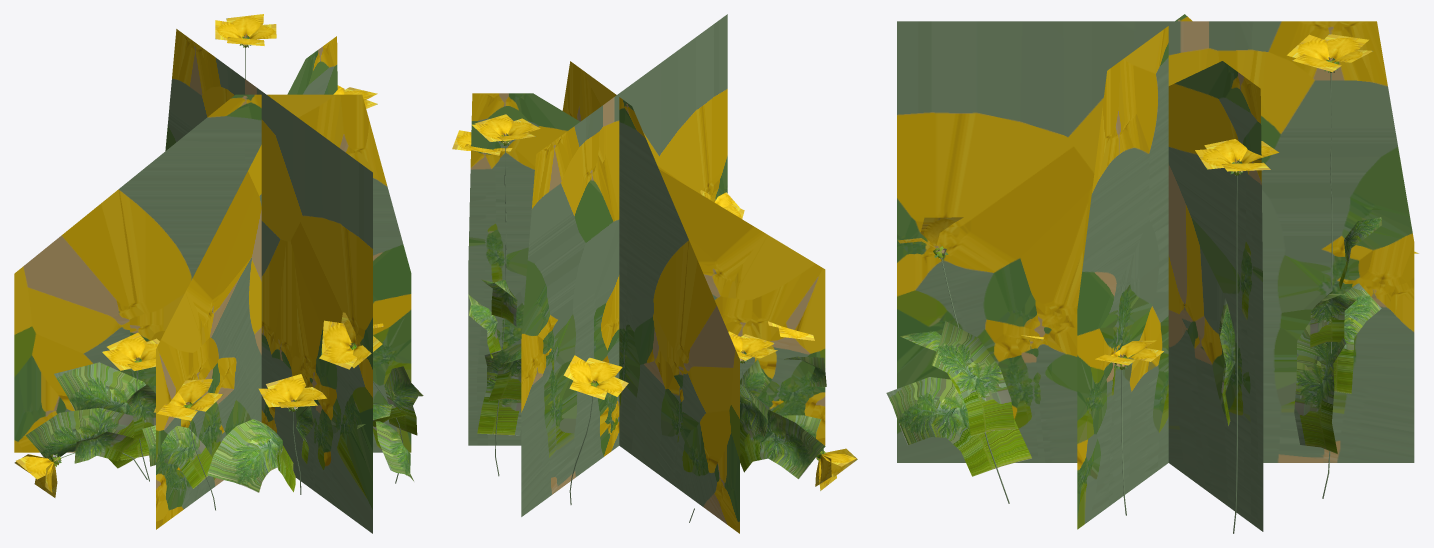
File: PW_California_Poppy_1.fbx
3 renders of one model, left to right at view 1: azimuth 30°, elevation 25°; view 2: azimuth 150°, elevation 25°; view 3: azimuth 270°, elevation 25°, orthographic. The views are drawn at different scales.
Visible parts, largest first — view 1: Billboard, LOD0; view 2: Billboard, LOD0; view 3: Billboard, LOD0.
Part boxes in pixels (<box>): Billboard: <box>14,29,411,533</box>; LOD0: <box>14,14,423,510</box>; Billboard: <box>468,14,825,533</box>; LOD0: <box>452,114,857,522</box>; Billboard: <box>897,14,1414,531</box>; LOD0: <box>886,34,1418,533</box>.
Size of what is drawn, in the model's own units: 37.88 by 35.02 by 37.94.
